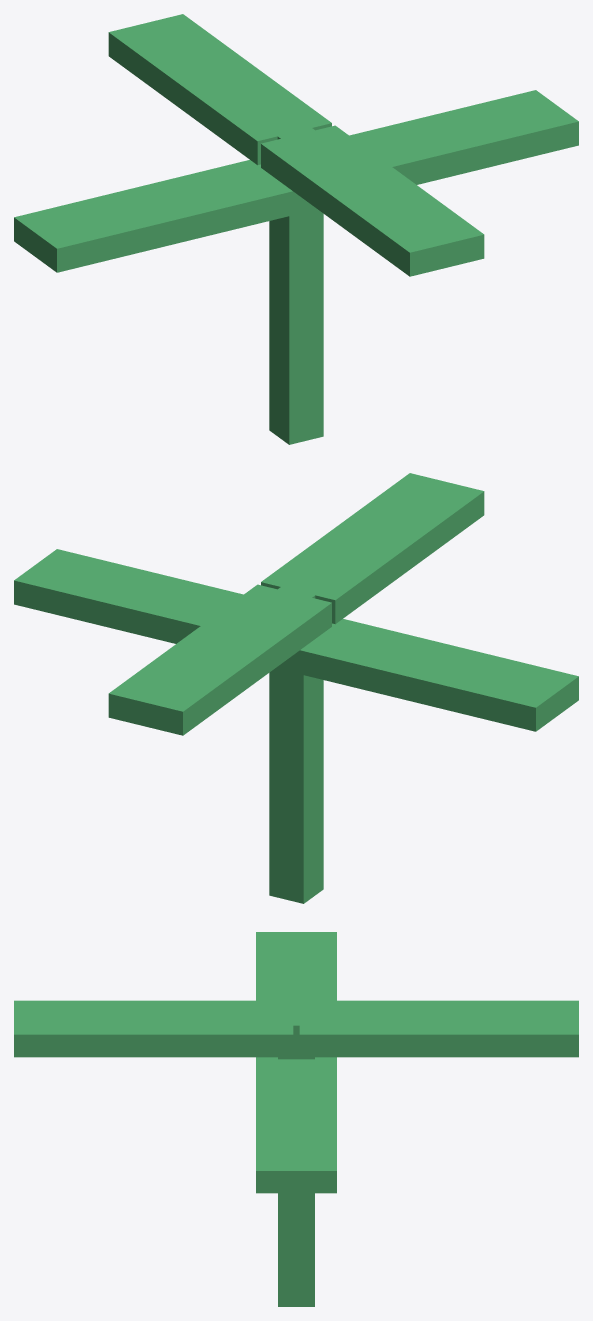
File: verdant_fern.gltf
3 views of the same model, one above another, from view 1: azimuth 30°, elevation 25°; view 2: azimuth 150°, elevation 25°; view 3: azimuth 270°, elevation 25° (orthographic). The views are drawn at different scales.
Visible parts, largest first — view 1: verdant_fern_tiny; view 2: verdant_fern_tiny; view 3: verdant_fern_tiny.
Boxes of the visible parts, box(x1,y1,x2,y2) form: verdant_fern_tiny: box(14, 14, 578, 444); verdant_fern_tiny: box(14, 473, 578, 903); verdant_fern_tiny: box(14, 932, 578, 1306).
Bounding box in the file's own units: 0.91 × 0.5 × 0.91.
